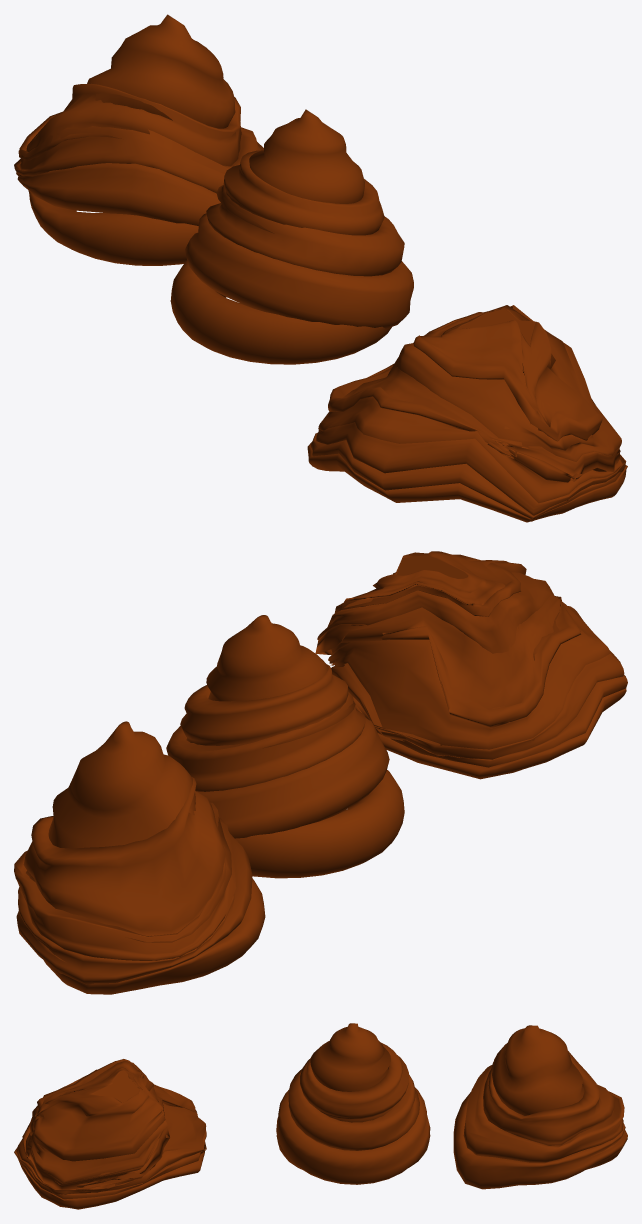
File: poo1.fbx
3 views of the same model, one above another, from view 1: azimuth 30°, elevation 25°; view 2: azimuth 150°, elevation 25°; view 3: azimuth 270°, elevation 25° (orthographic). The views are drawn at different scales.
Parts seen in each view (by area): view 1: Torus.001, Sphere, Sphere.005; view 2: Torus.001, Sphere.005, Sphere; view 3: Sphere.005, Torus.001, Sphere.
Boxes of the visible parts, bbox=[...] form: Torus.001: bbox=[307, 305, 627, 522]; Sphere: bbox=[170, 109, 413, 364]; Sphere.005: bbox=[14, 14, 263, 265]; Torus.001: bbox=[315, 551, 627, 779]; Sphere.005: bbox=[14, 721, 265, 994]; Sphere: bbox=[166, 615, 404, 878]; Sphere.005: bbox=[453, 1025, 627, 1189]; Torus.001: bbox=[14, 1059, 206, 1209]; Sphere: bbox=[276, 1023, 430, 1184].
Bounding box in the file's own units: 326 × 278 × 998.
